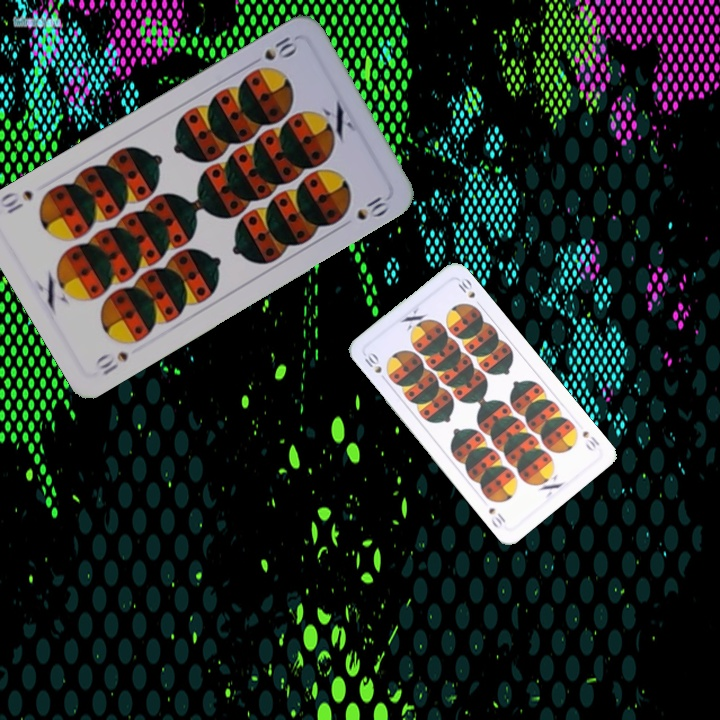S10: (245, 32, 301, 69), (91, 347, 131, 378), (360, 348, 384, 376), (578, 427, 602, 454)
